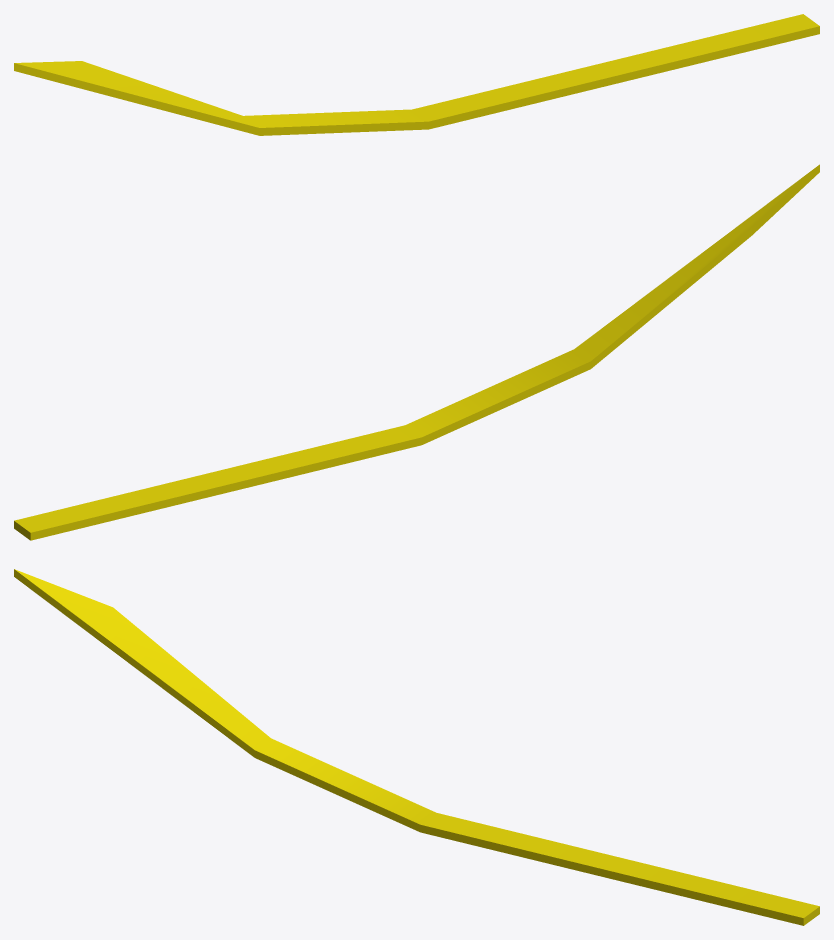
Rendered from Mdl_Vagon_Barras3.fbx.
3 views of the same model, one above another, from view 1: azimuth 30°, elevation 25°; view 2: azimuth 210°, elevation 25°; view 3: azimuth 330°, elevation 25° (orthographic). The views are drawn at different scales.
Parts seen in each view (by area): view 1: Mdl_Vagon_Barras3; view 2: Mdl_Vagon_Barras3; view 3: Mdl_Vagon_Barras3.
Boxes of the visible parts, x1=… form: Mdl_Vagon_Barras3: x1=14, y1=14, x2=819, y2=135; Mdl_Vagon_Barras3: x1=14, y1=164, x2=819, y2=540; Mdl_Vagon_Barras3: x1=14, y1=569, x2=819, y2=925.
Size of the model in its own units: 12.33 by 2.45 by 0.4403.
